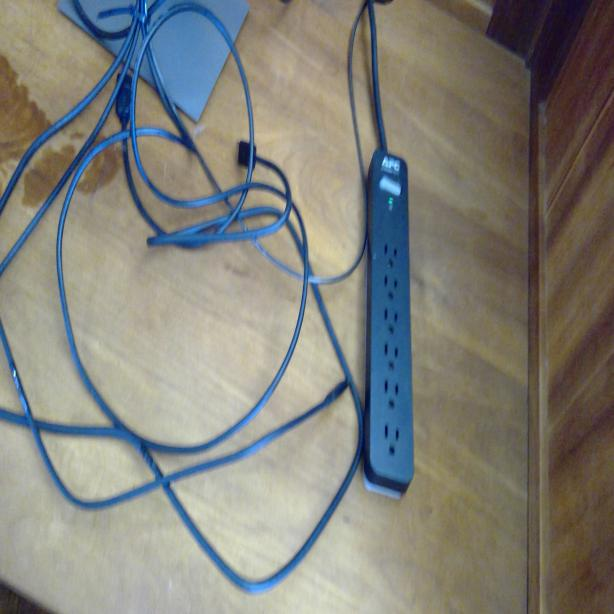typeb: (380, 416, 404, 460), (382, 374, 402, 414), (381, 338, 401, 373), (380, 238, 400, 268), (383, 272, 400, 304), (382, 308, 400, 337)
